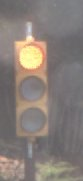Red: (6, 34, 49, 155)
